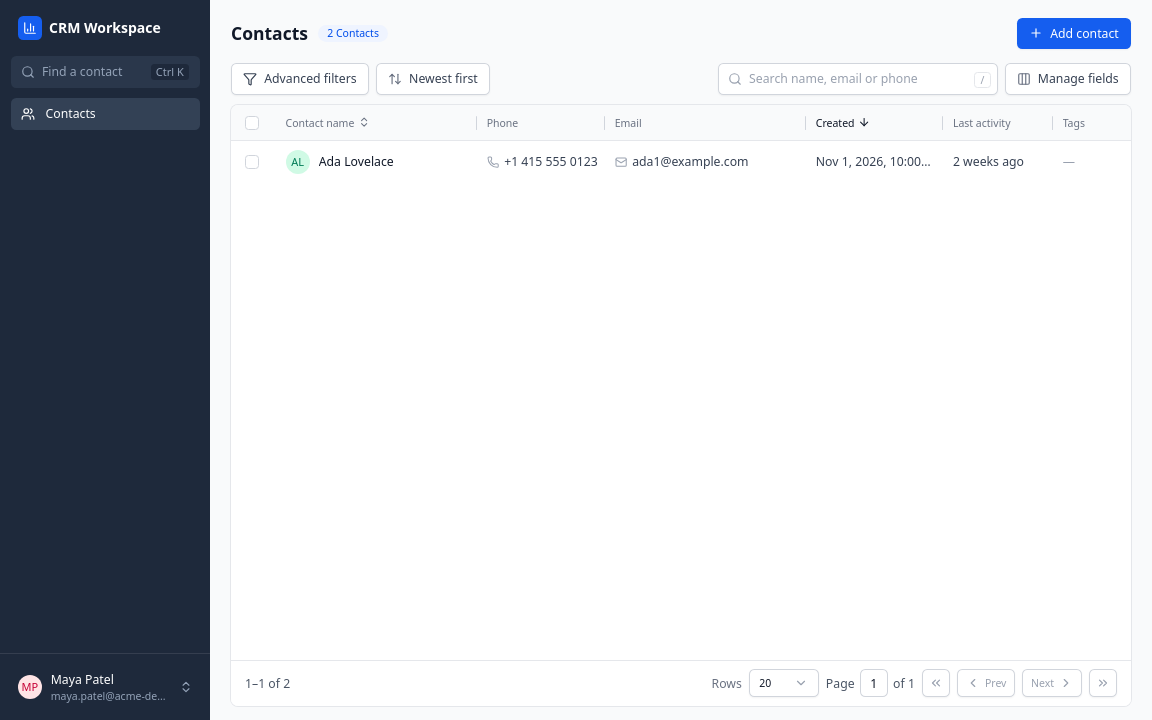
ContactsPage › filters a field with an operator such as "contains"
Expected: the table is shown, [231,105,1131,182]
Click the button "Advanced filters": (300, 79) [231,63,369,94]
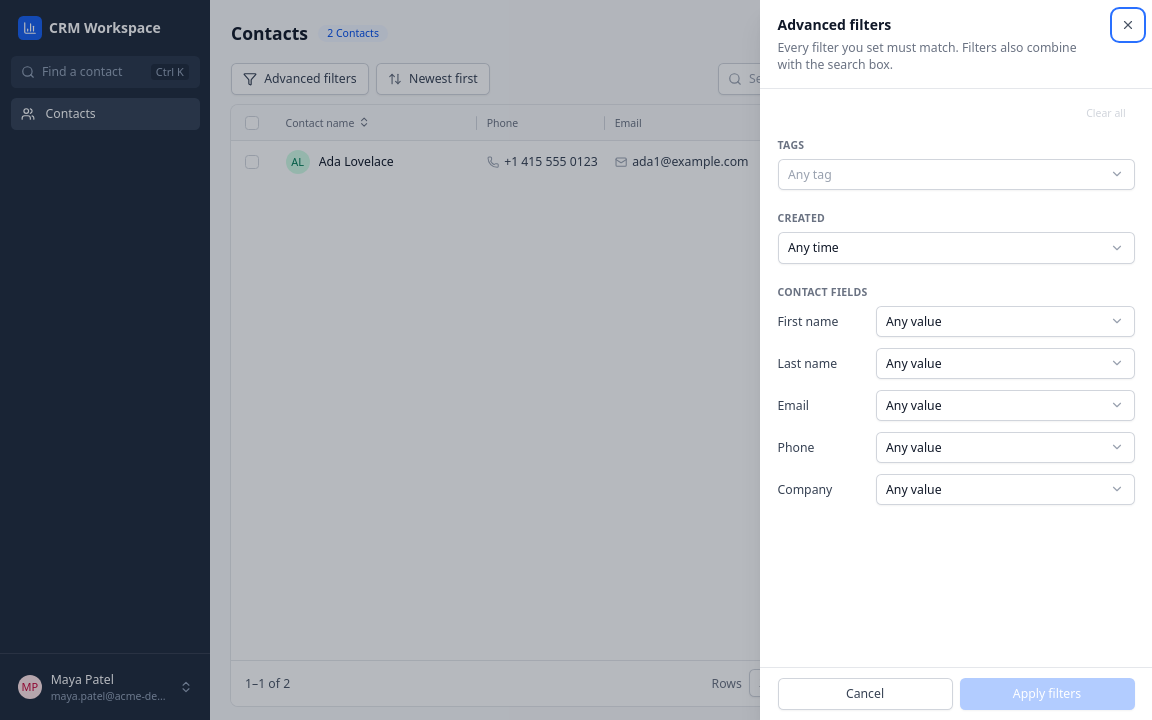
Now the button "Apply filters" is disabled, box [960,678,1134,710]
Click the dropdown named "Email condition": (1005, 405) [876,390,1134,421]
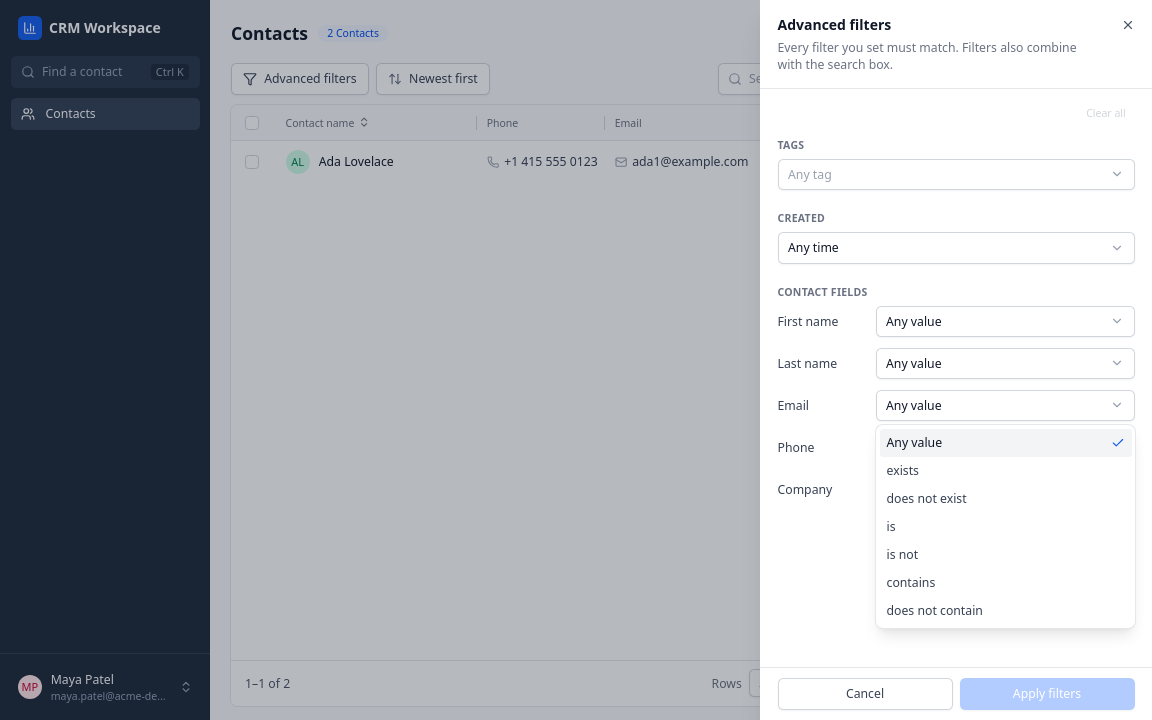
Click the option "contains": (911, 582) [886,574,935,591]
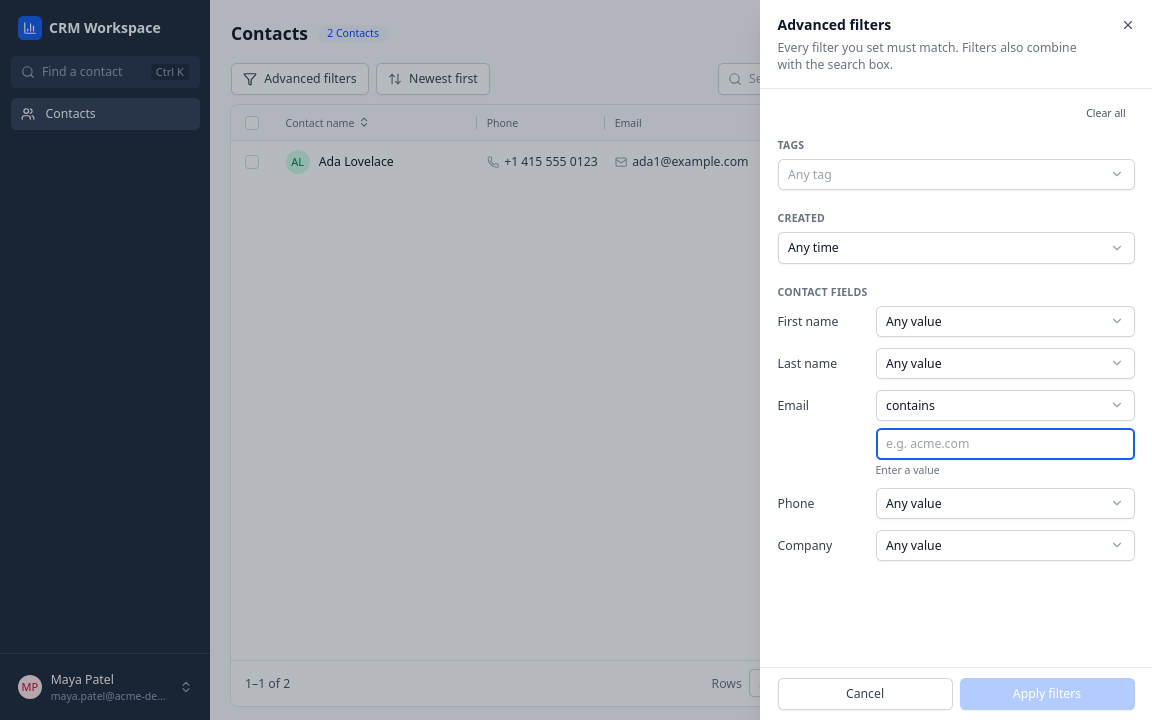
In the field named "Email contains": (1005, 444) [876,428,1134,460], type "acme"
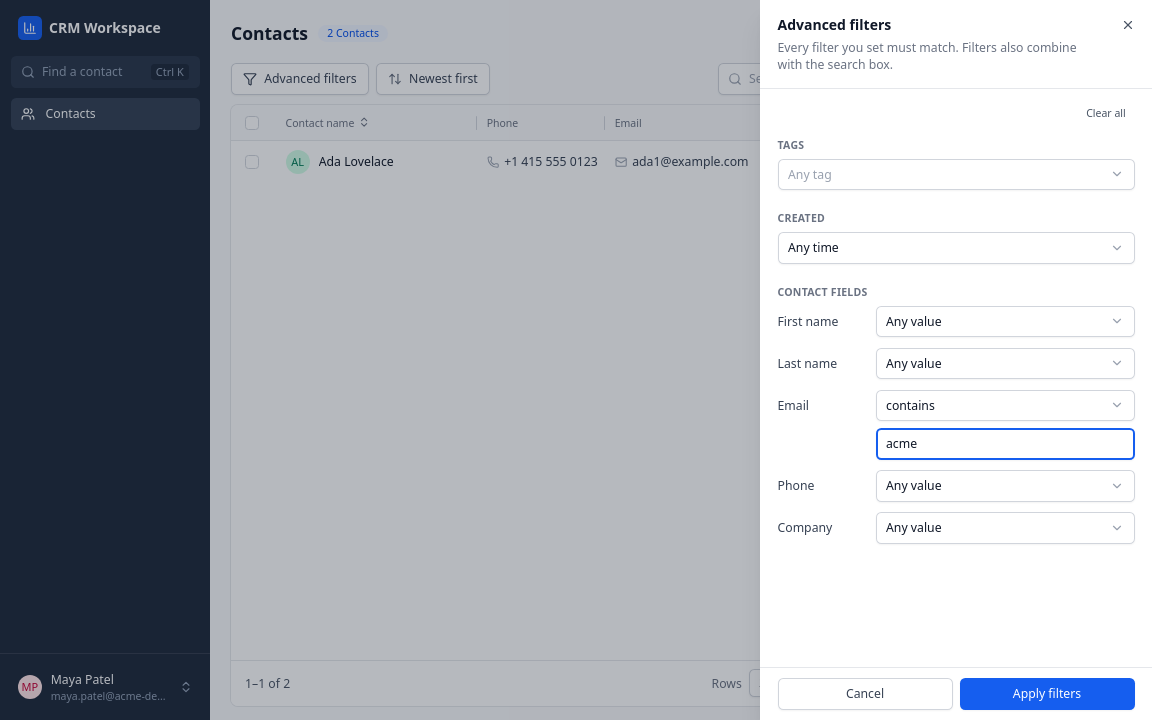
Click the button "Apply filters": (1047, 694) [960,678,1134,710]
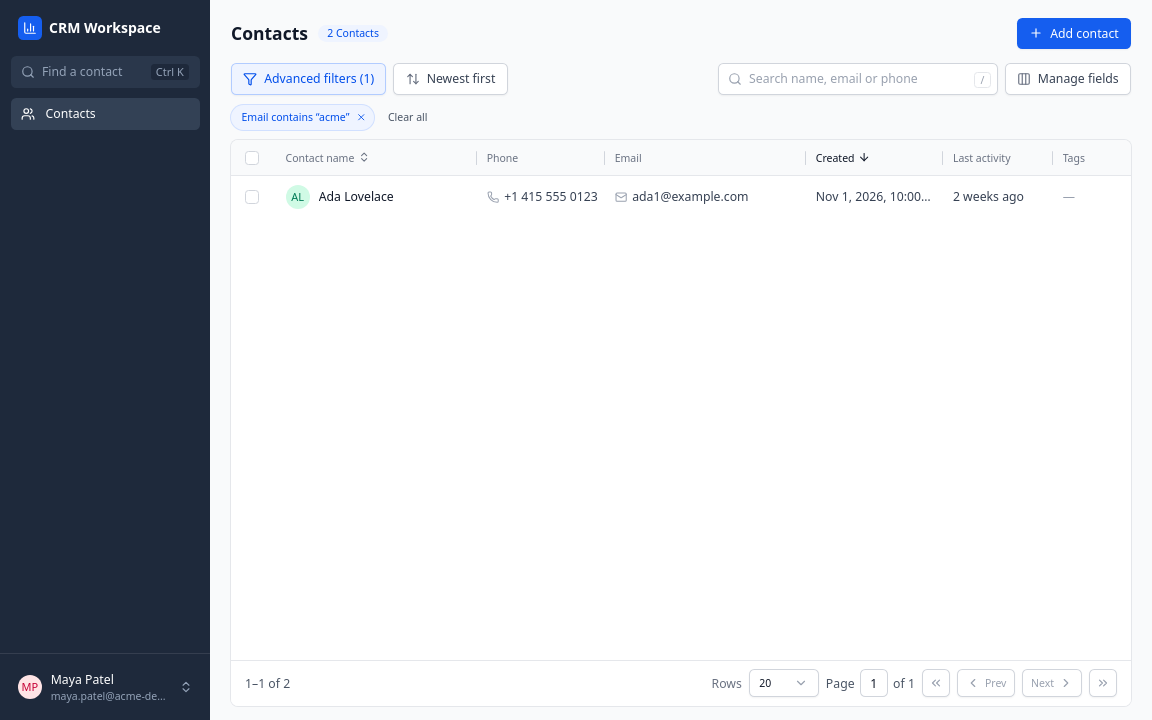
Now the list item "Email contains “acme”" is shown, box [231,105,374,130]
